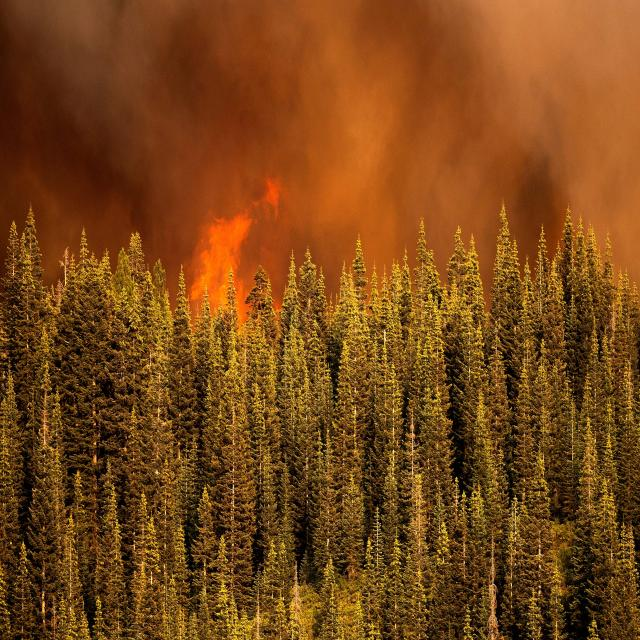Fire: (185, 175, 282, 325)
Smoke: (356, 0, 570, 242), (0, 5, 161, 232)
